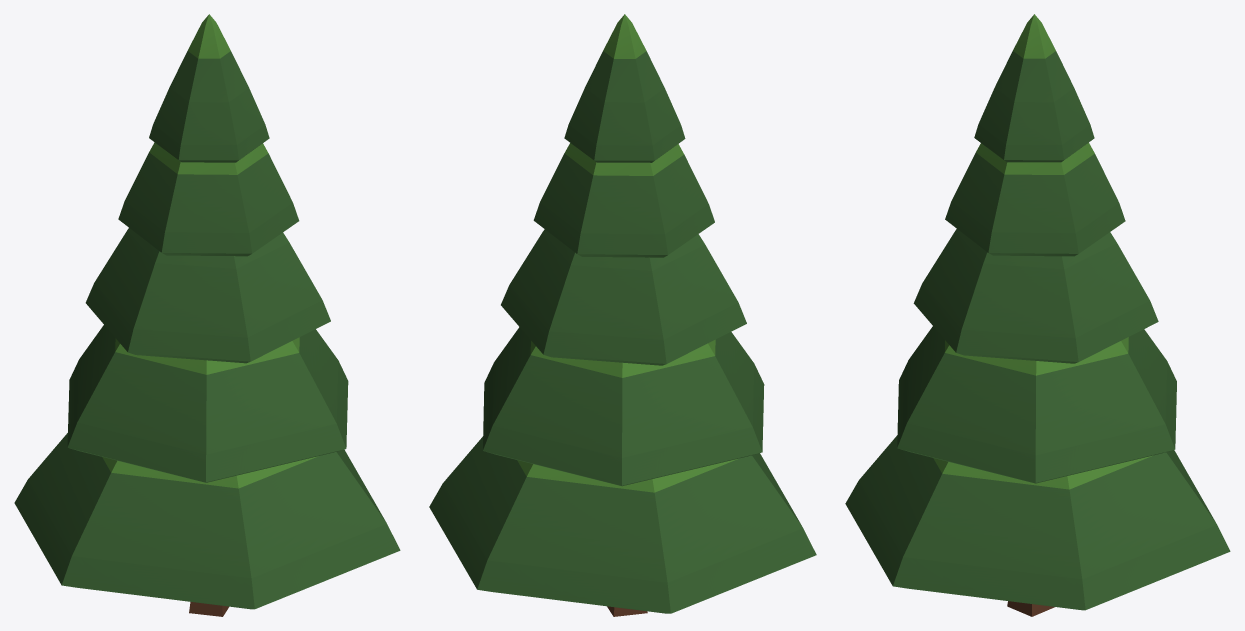
The model's file is SM_Tree_Spruce01_LOD1.fbx.
The picture shows the model from 3 angles, left to right: view 1: azimuth 30°, elevation 25°; view 2: azimuth 150°, elevation 25°; view 3: azimuth 270°, elevation 25°; orthographic projection.
Visible parts, largest first — view 1: SM_Tree_Spruce01_LOD1; view 2: SM_Tree_Spruce01_LOD1; view 3: SM_Tree_Spruce01_LOD1.
Part boxes in pixels (x1,y1,x2,y2): SM_Tree_Spruce01_LOD1: (14,14,400,616); SM_Tree_Spruce01_LOD1: (429,14,816,616); SM_Tree_Spruce01_LOD1: (845,14,1230,616).
Bounding box in the file's own units: 12.21 × 20.41 × 12.03.
1 material, 1 textured.
